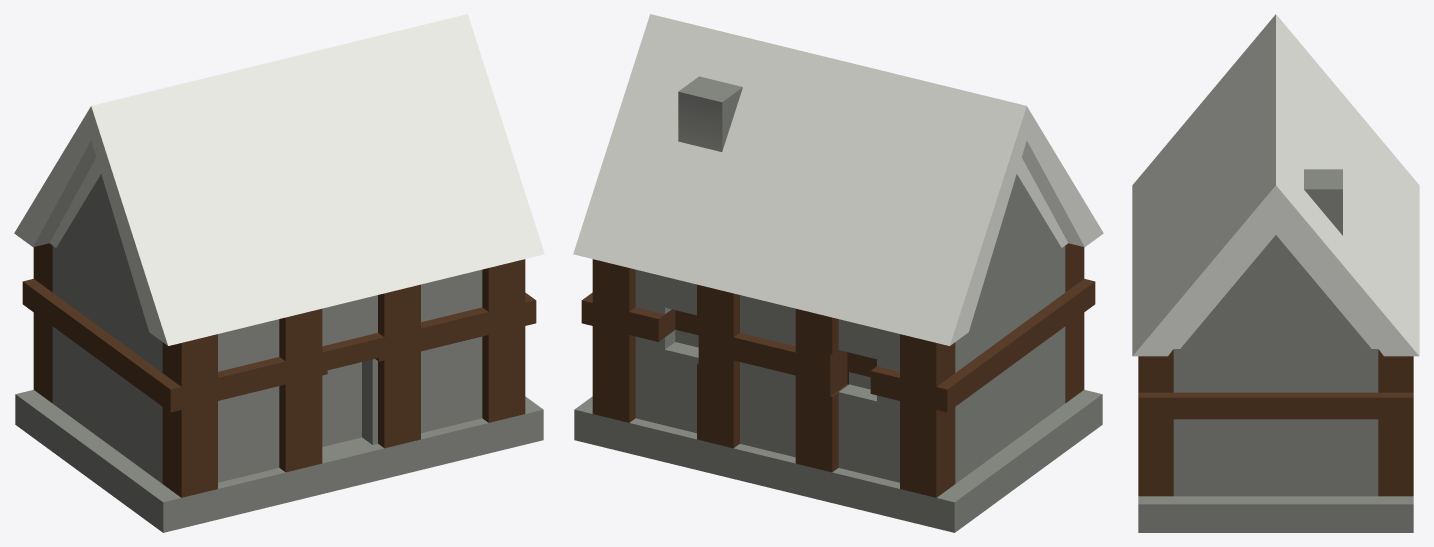
Rendered from gehoeft_weiss.glb.
The picture shows the model from 3 angles, left to right: view 1: azimuth 30°, elevation 25°; view 2: azimuth 150°, elevation 25°; view 3: azimuth 270°, elevation 25°; orthographic projection. The views are drawn at different scales.
Visible parts, largest first — view 1: gehoeft_weiss; view 2: gehoeft_weiss; view 3: gehoeft_weiss.
Boxes of the visible parts, box(x1,y1,x2,y2) form: gehoeft_weiss: box(14, 14, 544, 532); gehoeft_weiss: box(573, 14, 1103, 532); gehoeft_weiss: box(1132, 14, 1419, 532).
Size of the model in its own units: 10.4 by 9.74 by 7.3.
